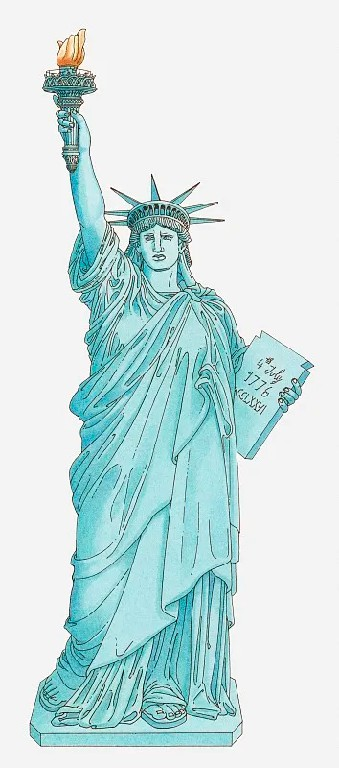SL: (29, 28, 314, 747)
